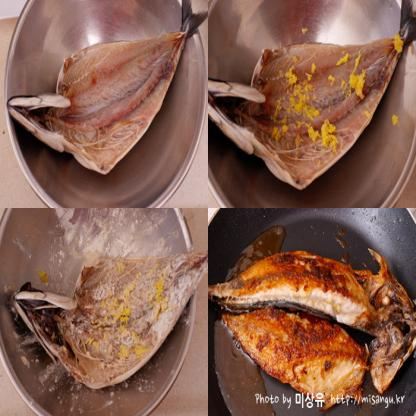Peixe: (219, 239, 416, 416)
